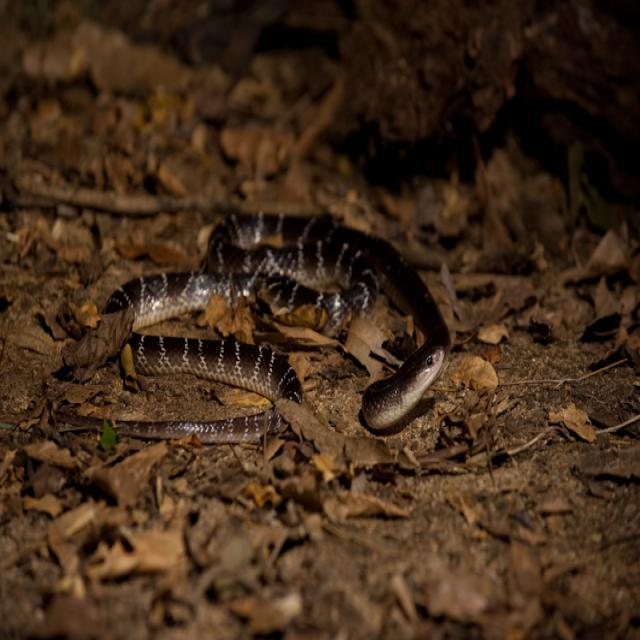Snake: (100, 208, 452, 442)
